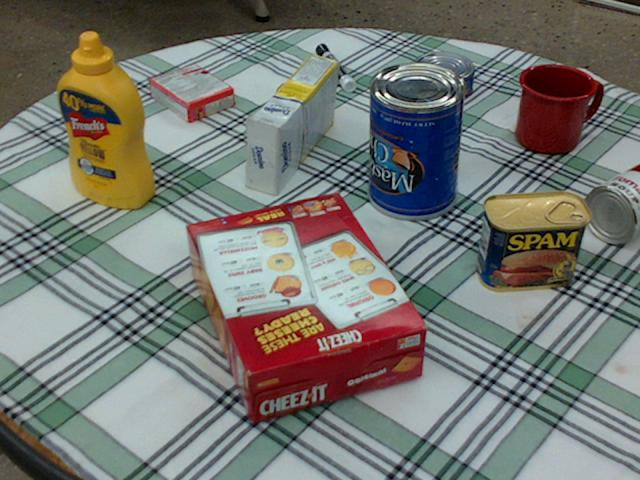cracker_box: (185, 193, 427, 423)
gelatin_box: (150, 64, 233, 122)
large_marker: (316, 42, 355, 90)
master_chef_can: (365, 61, 467, 218)
mug: (516, 64, 598, 154)
mustard_bottle: (57, 32, 153, 207)
potted_meat_can: (476, 190, 589, 291)
sugar_box: (246, 54, 337, 195)
tomato_soup_can: (584, 164, 639, 242)
tuna_fish_can: (412, 51, 475, 101)
